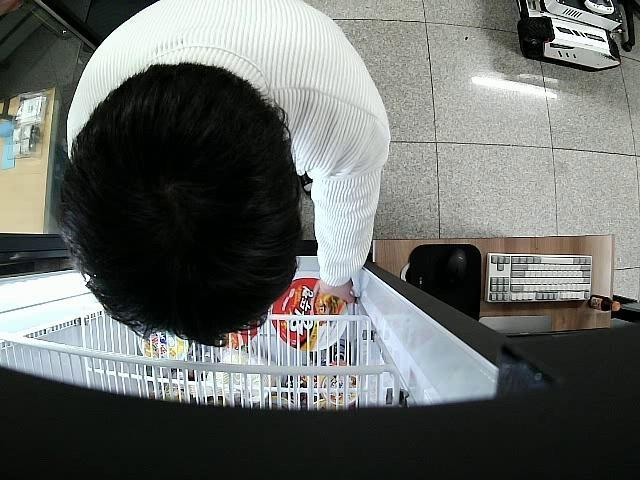10_wangTtukkeong: (272, 278, 348, 351)
